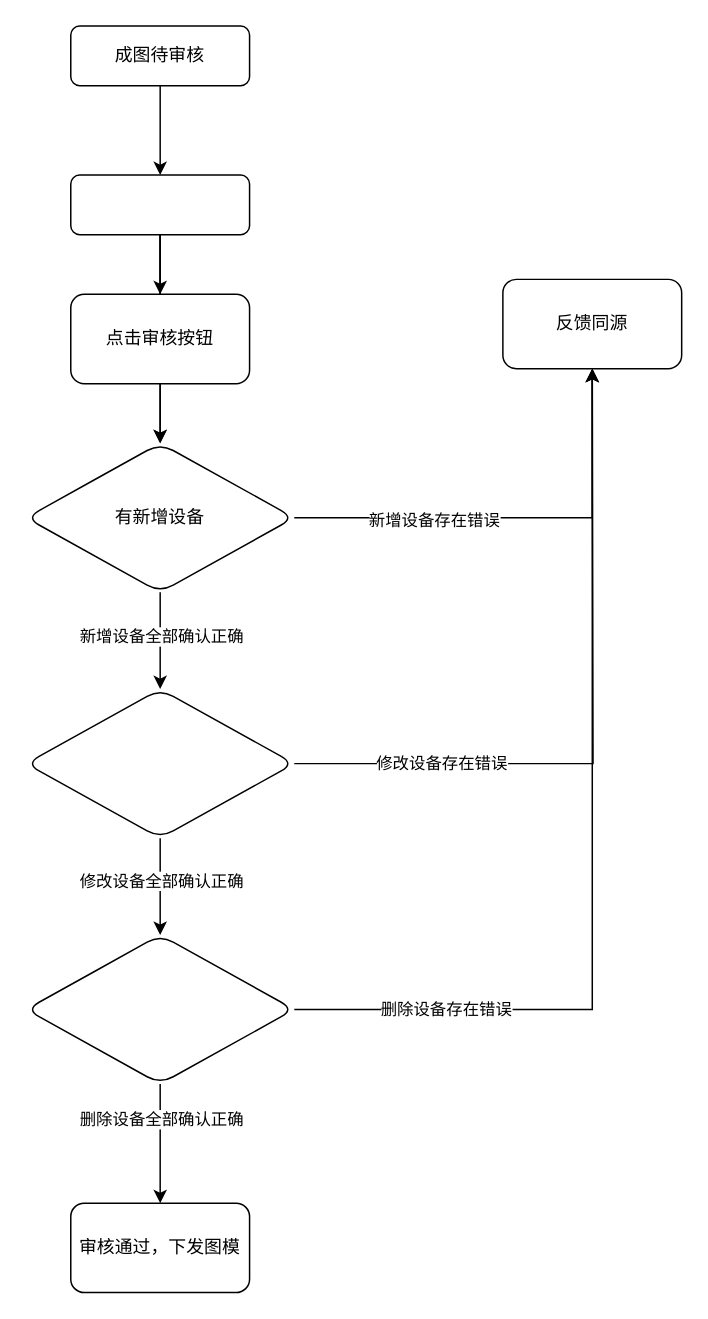
Image size: 708x1319. Some labels were removed from this diagram. Here are the shapes that lost their labels. From the top down, the box of each, then its label:
(69, 174, 250, 235): 上传附件
(25, 688, 294, 838): 有修改设备
(25, 933, 294, 1084): 有删除设备
